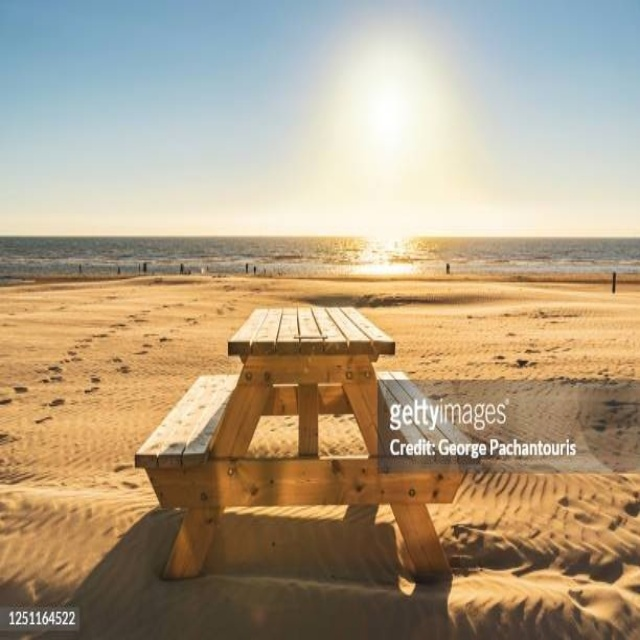obstacle: (136, 306, 465, 580), (612, 271, 616, 292)
